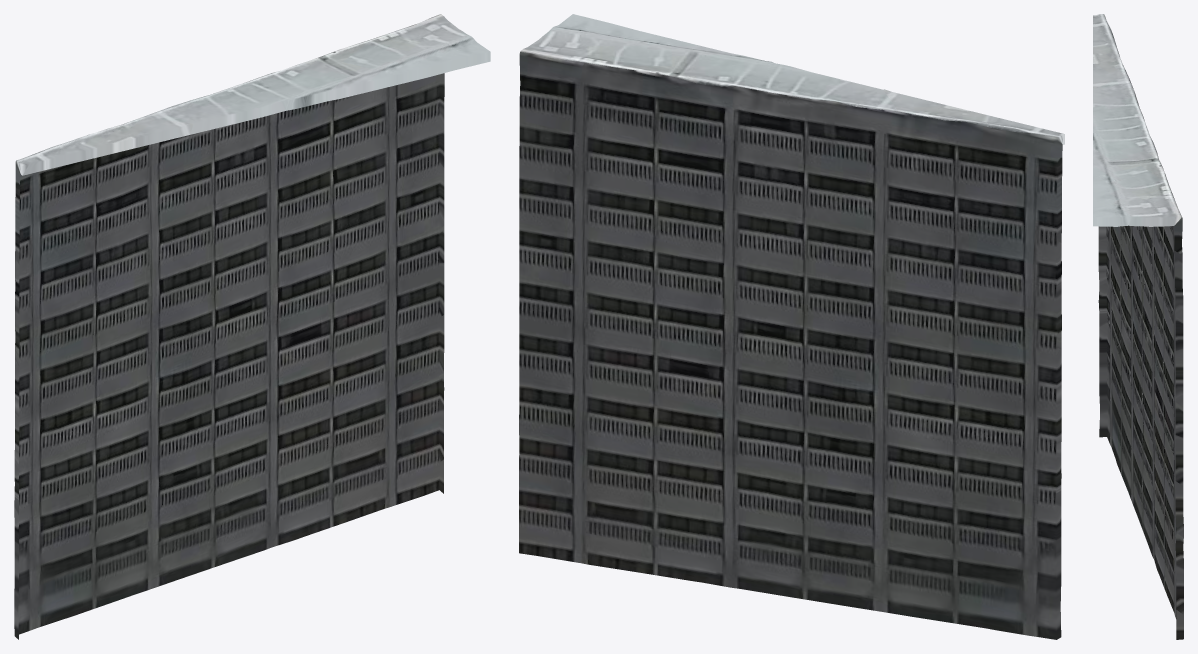
File: z20-167782-405225-h1-yup-uvflip-v3-world.glb
The picture shows the model from 3 angles, left to right: view 1: azimuth 30°, elevation 25°; view 2: azimuth 150°, elevation 25°; view 3: azimuth 270°, elevation 25°; orthographic projection. The views are drawn at different scales.
Size of the model in its own units: 30.16 by 29.48 by 5.72.
Materials: 1 (1 with a texture image).
